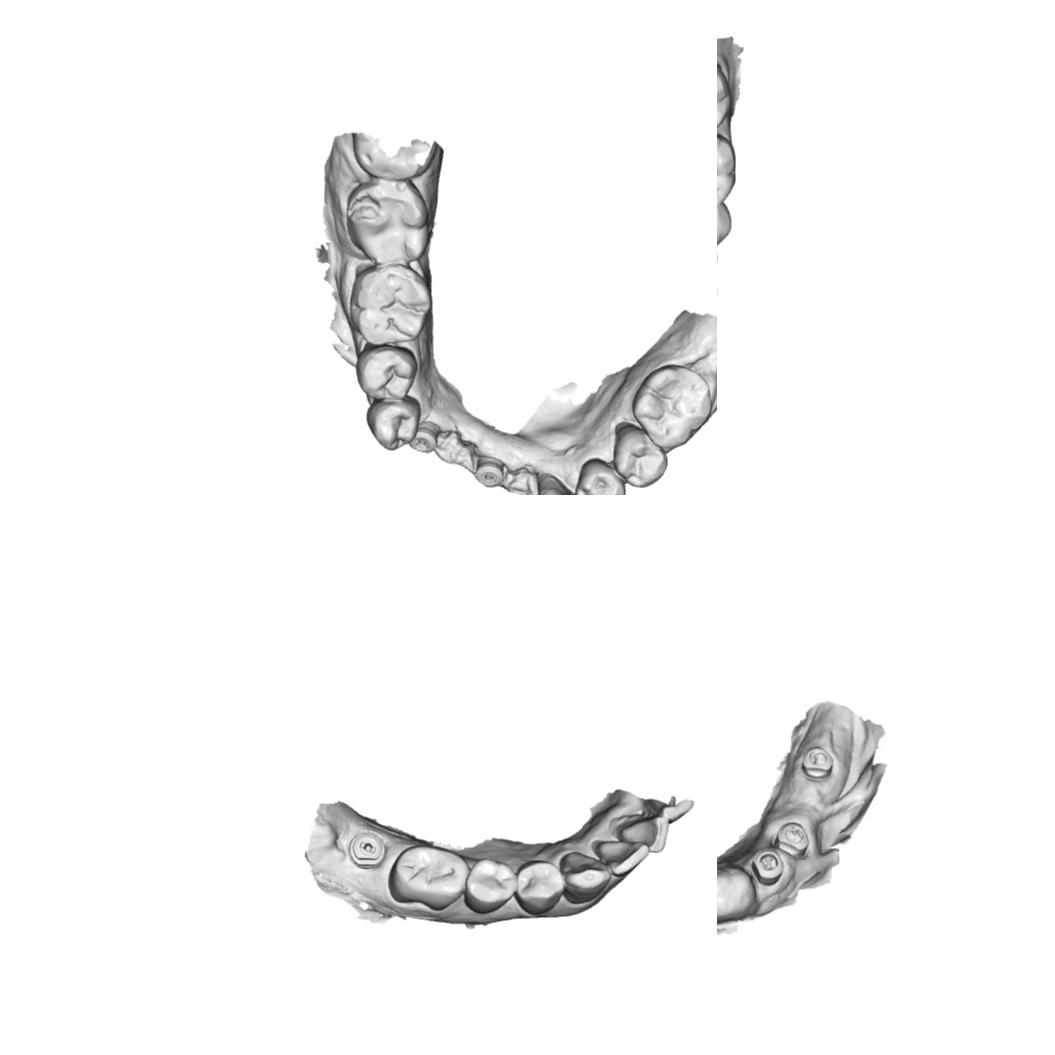canine: (558, 850, 611, 904), (534, 470, 582, 495)
implant: (409, 413, 446, 457), (753, 849, 784, 887), (775, 823, 809, 857), (801, 745, 833, 780)
implant_minus: (347, 830, 386, 870), (473, 455, 507, 490)
incisor: (594, 840, 650, 878), (617, 814, 670, 854), (644, 796, 694, 822)
molar: (344, 174, 439, 267), (630, 362, 716, 450), (348, 262, 434, 346), (386, 843, 471, 912), (717, 131, 738, 208), (717, 58, 733, 140)
premolar: (610, 420, 670, 490), (353, 340, 420, 402), (364, 395, 424, 452), (462, 857, 517, 915), (514, 858, 565, 916), (569, 457, 626, 495), (717, 196, 735, 249)
